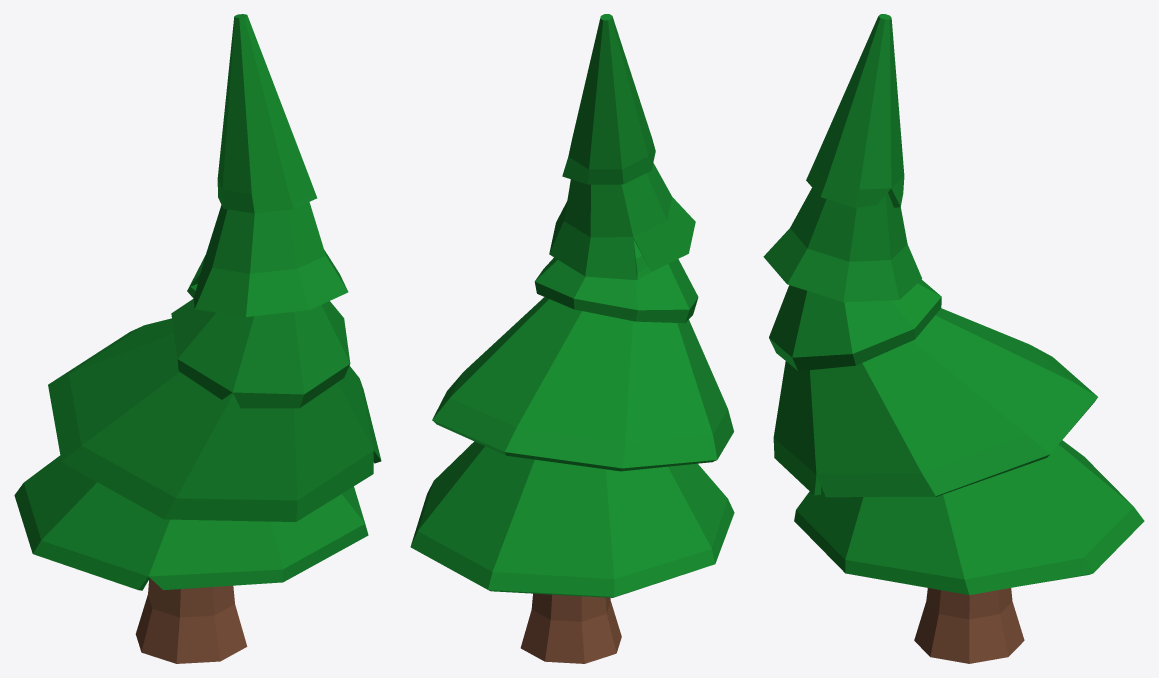
The model's file is Pinetree2.glb.
3 renders of one model, left to right at view 1: azimuth 30°, elevation 25°; view 2: azimuth 150°, elevation 25°; view 3: azimuth 270°, elevation 25°, orthographic. The views are drawn at different scales.
Visible parts, largest first — view 1: Pine tree 2; view 2: Pine tree 2; view 3: Pine tree 2.
Part boxes in pixels (bbox=[...]): Pine tree 2: bbox=[14, 14, 381, 663]; Pine tree 2: bbox=[410, 14, 734, 663]; Pine tree 2: bbox=[763, 14, 1144, 663].
Size of the model in its own units: 56.18 by 111 by 61.11.
